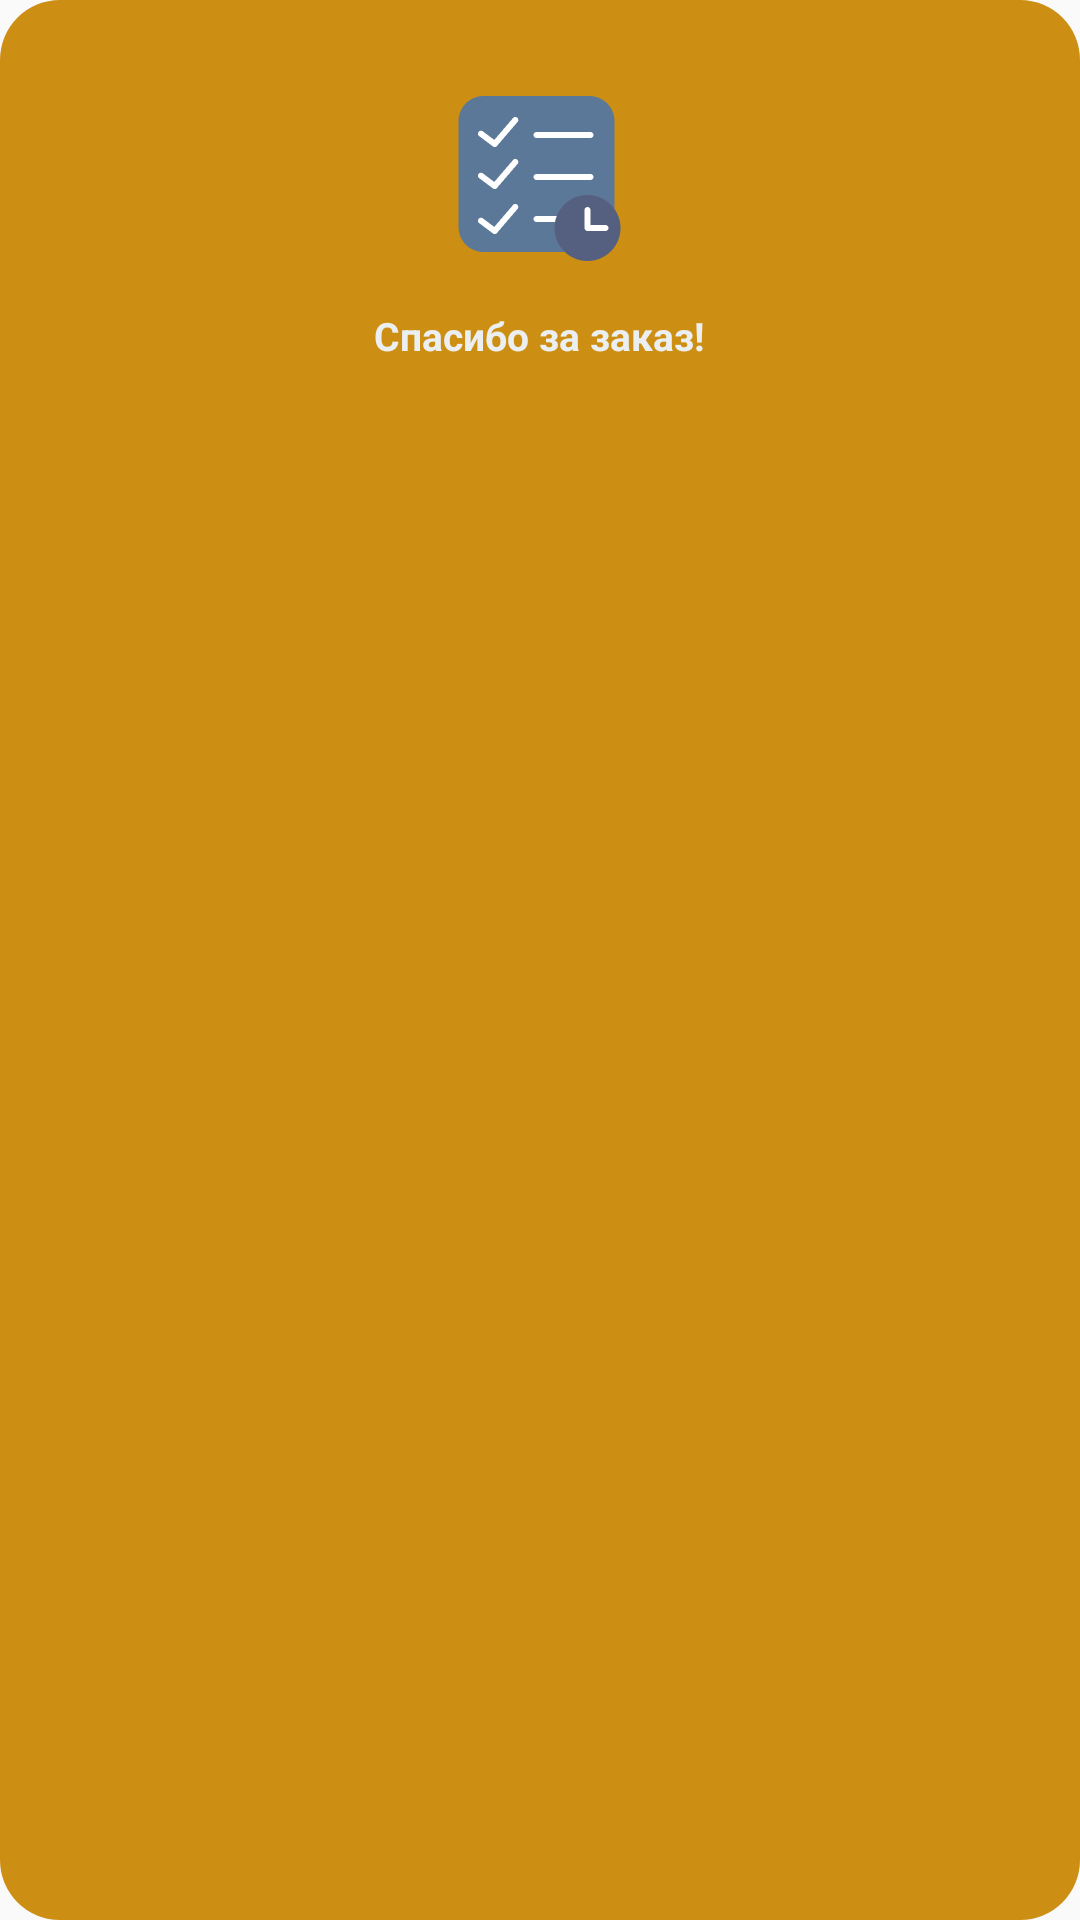

Named icons in this screenshot (1080×1920) and their bounding boxes, (x1, y1, x2, y2):
list: (458, 96, 621, 261)
